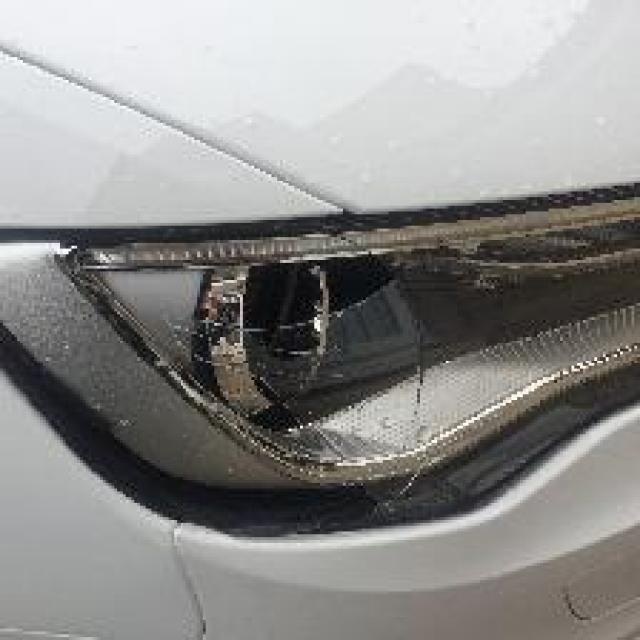damaged: (57, 237, 420, 543)
